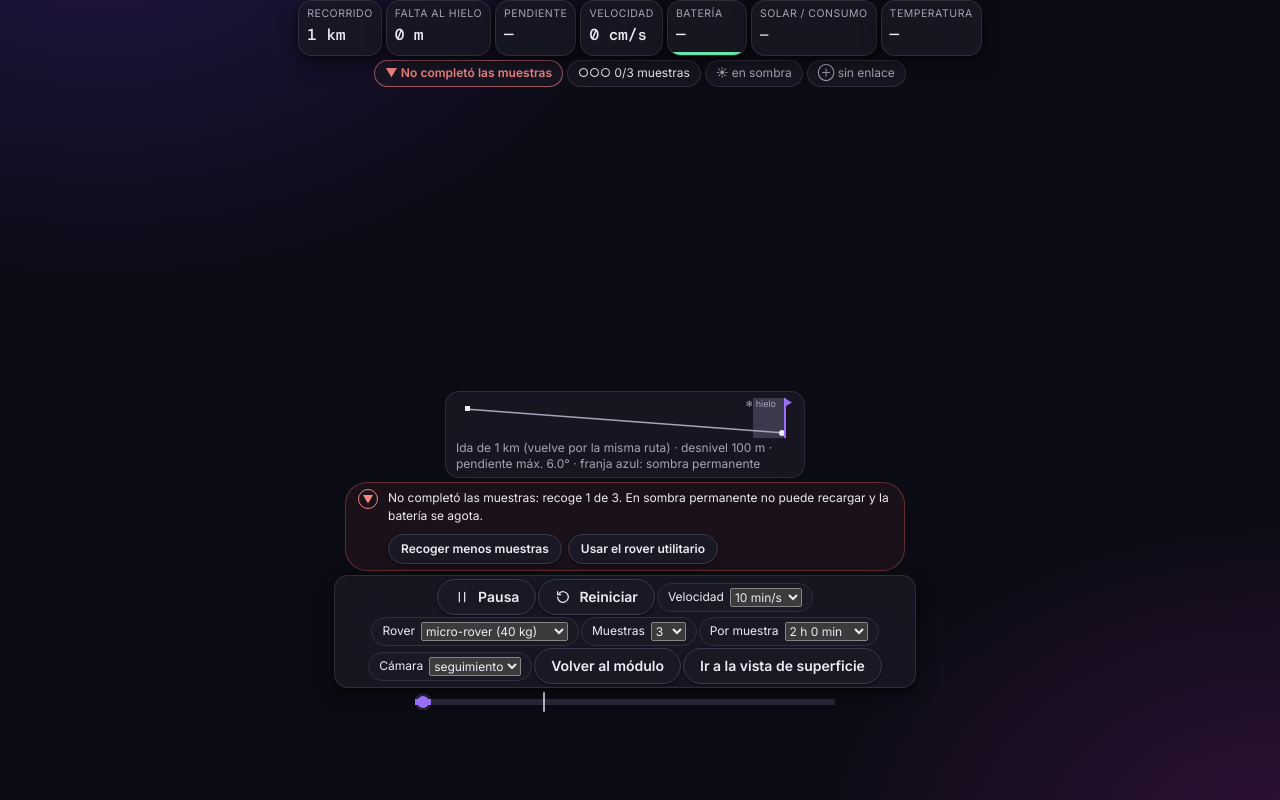
RoverHud: a trip that fails › offers fewer samples and the utility rover, and each changes its input
Step 1. Click the button "Recoger menos muestras" → (475, 549), box [388,534,562,564]
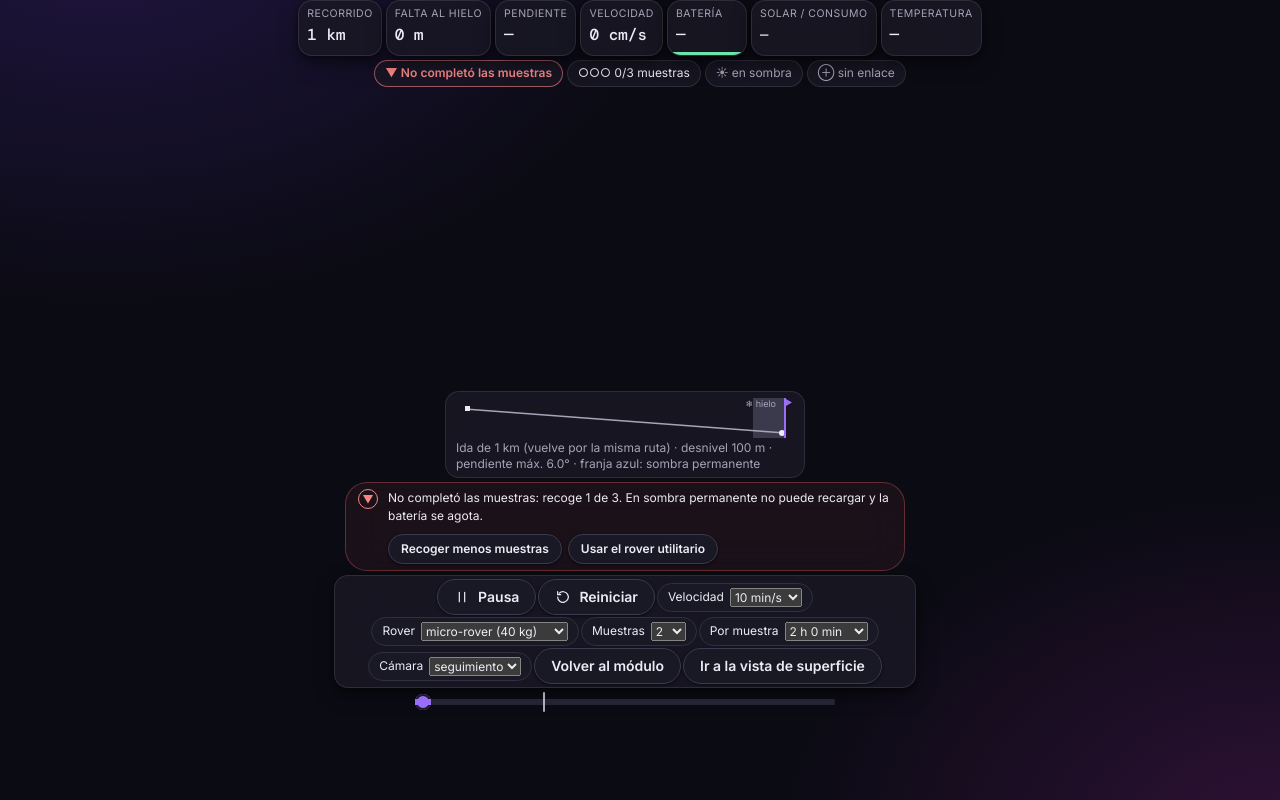
Step 2. Click the button "Usar el rover utilitario" → (643, 549), box [568,534,718,564]
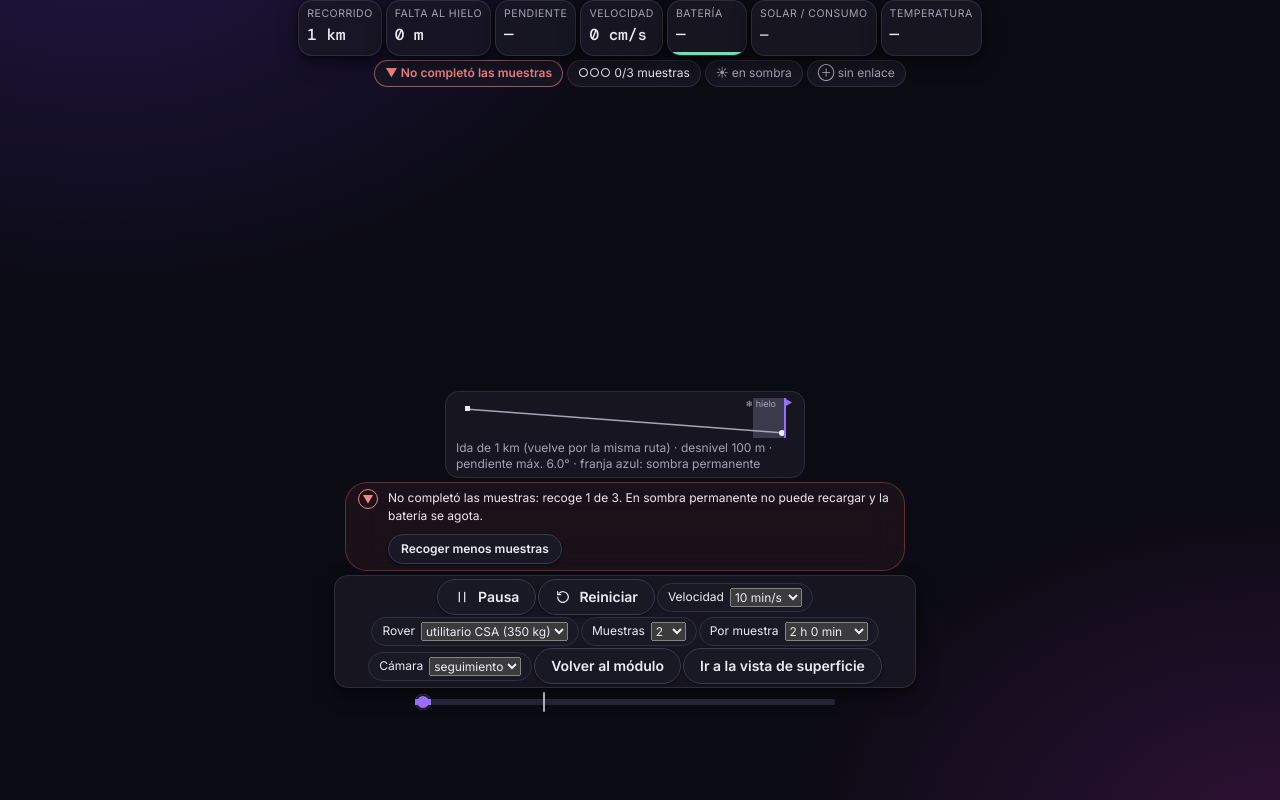
Expected: the button "Usar el rover utilitario" is gone
